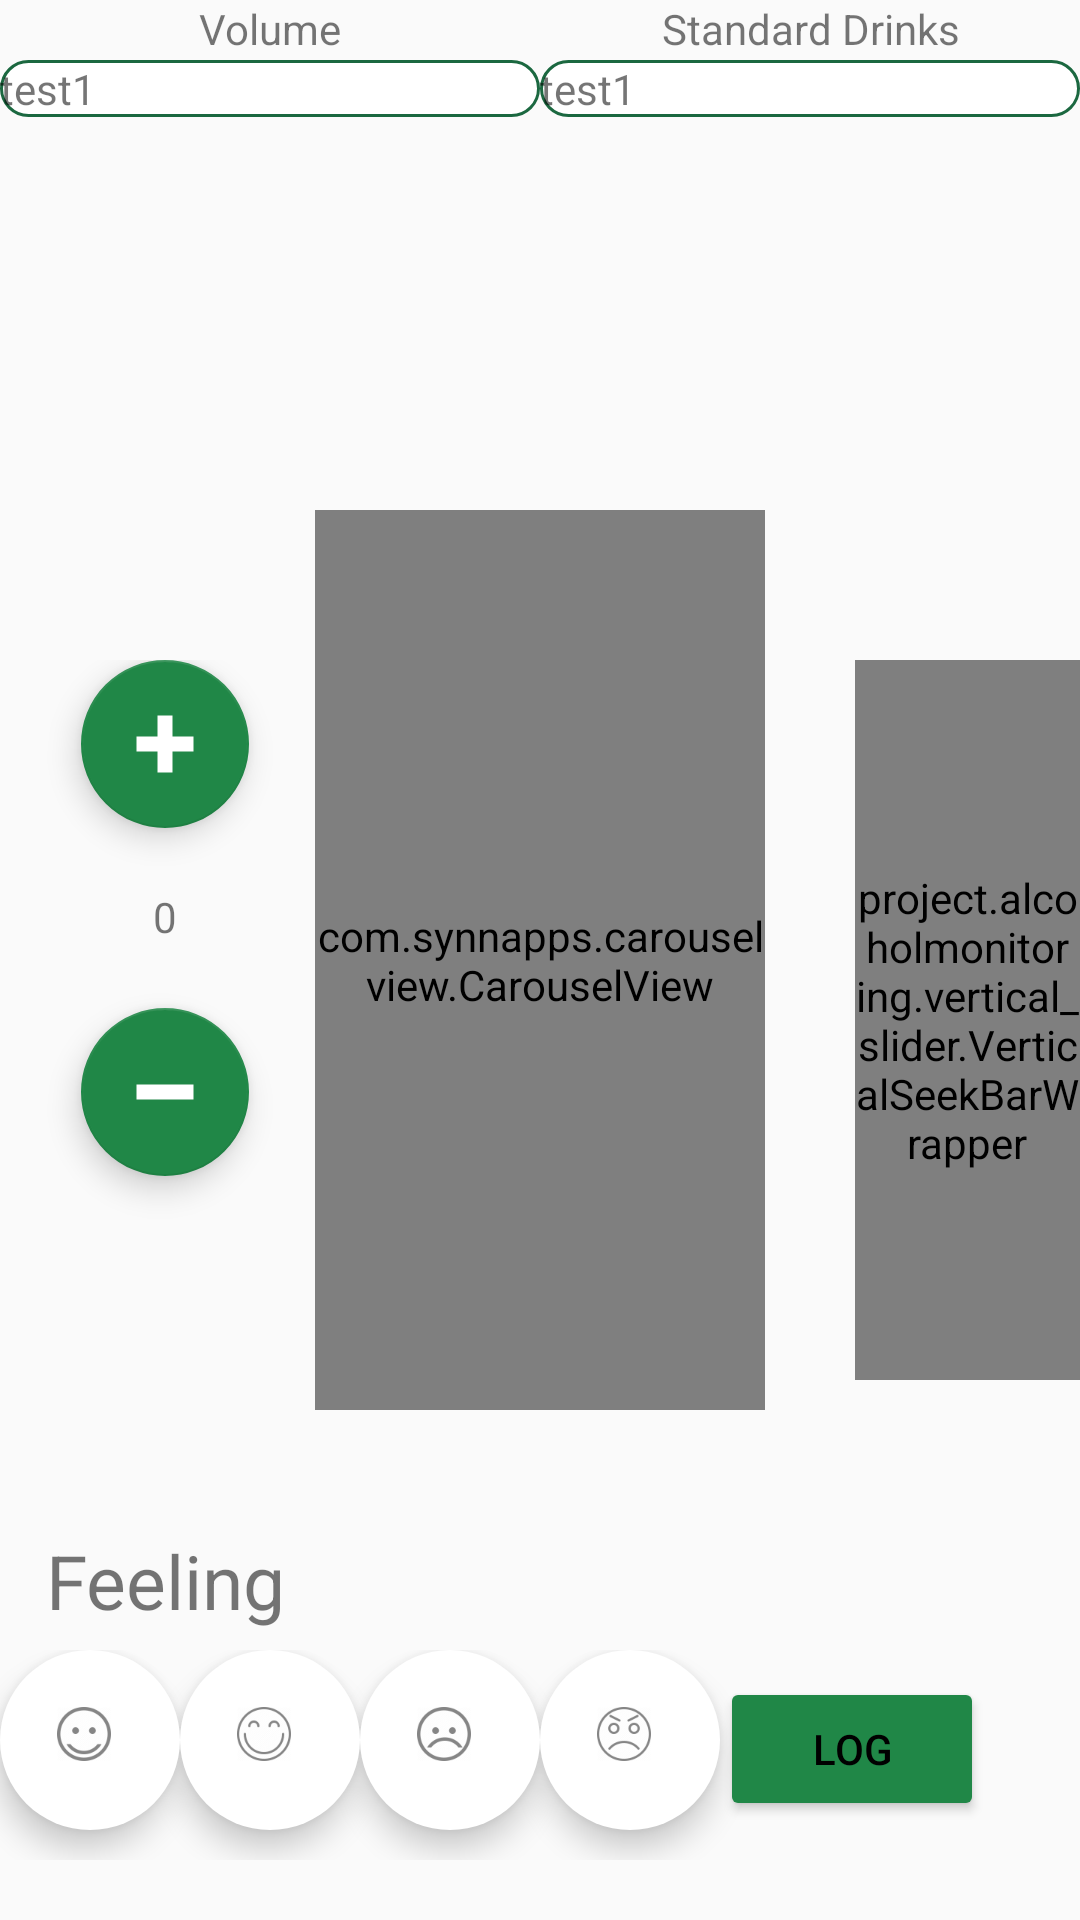

Where icons sit on this 1080 × 1920 app screen, as {"x1": x1, "y1": y1, "x2": x2, "y2": y2}:
minus: {"x1": 81, "y1": 1008, "x2": 249, "y2": 1176}
mood angry: {"x1": 540, "y1": 1707, "x2": 720, "y2": 1830}
mood happy: {"x1": 180, "y1": 1707, "x2": 360, "y2": 1830}
mood sad: {"x1": 360, "y1": 1707, "x2": 540, "y2": 1830}
mood smile: {"x1": 0, "y1": 1707, "x2": 180, "y2": 1830}
plus: {"x1": 81, "y1": 660, "x2": 249, "y2": 828}
